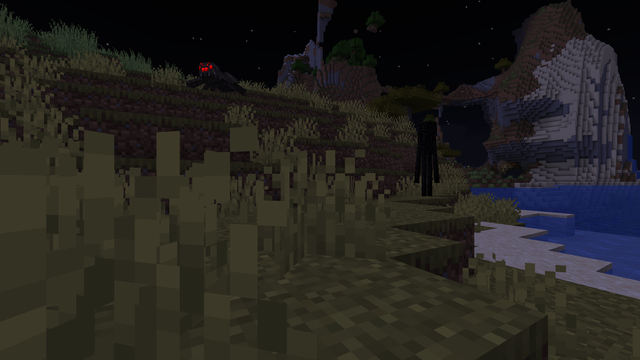araignees: (195, 56, 239, 94)
endermens: (415, 118, 438, 196)
